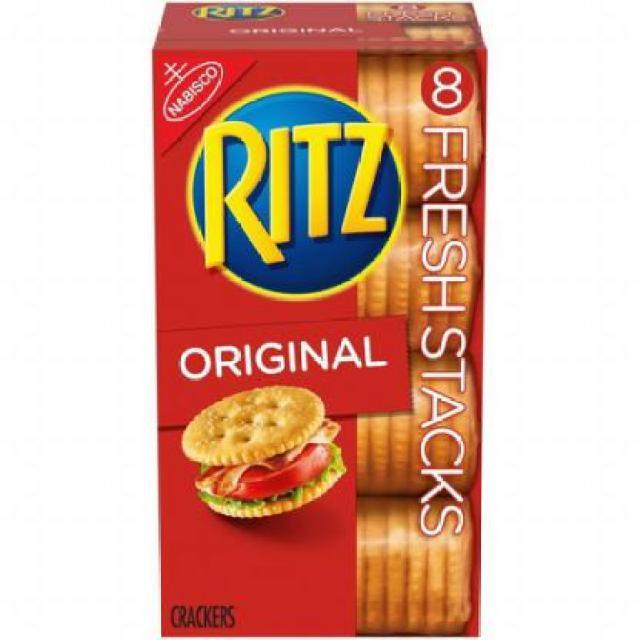Ritz cracker: (142, 11, 490, 640)
